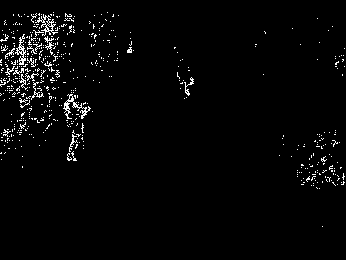person: (61, 92, 90, 163)
